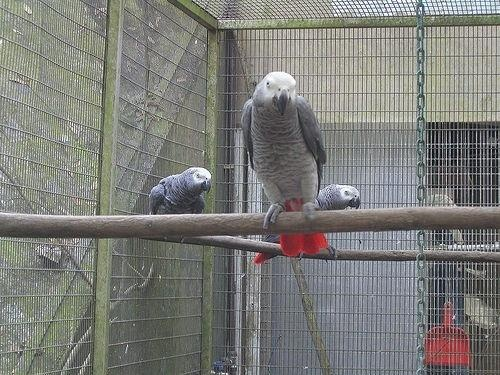bird: (242, 71, 337, 257), (255, 184, 361, 265), (150, 167, 211, 216)
